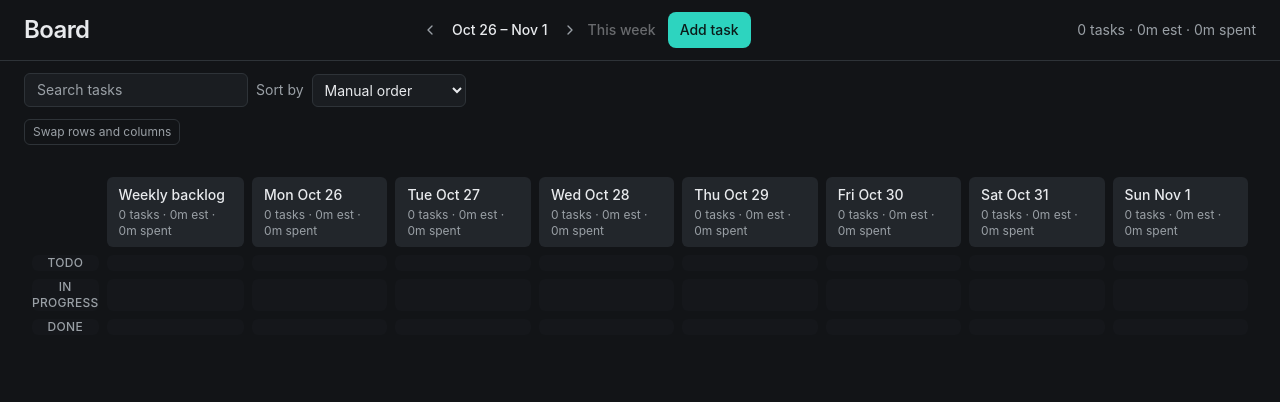
Test case: BoardPage › jumps straight back to the current week via This week
This screenshot has width=1280, height=402.
expect the column heading "Weekly backlog 0 tasks · 0m est · 0m spent" is shown: met, box [107,177,244,247]
expect the button "This week" is disabled: met, box [588,16,656,44]
Click the button named "Previous week": {"x": 430, "y": 30} [416,16,444,44]
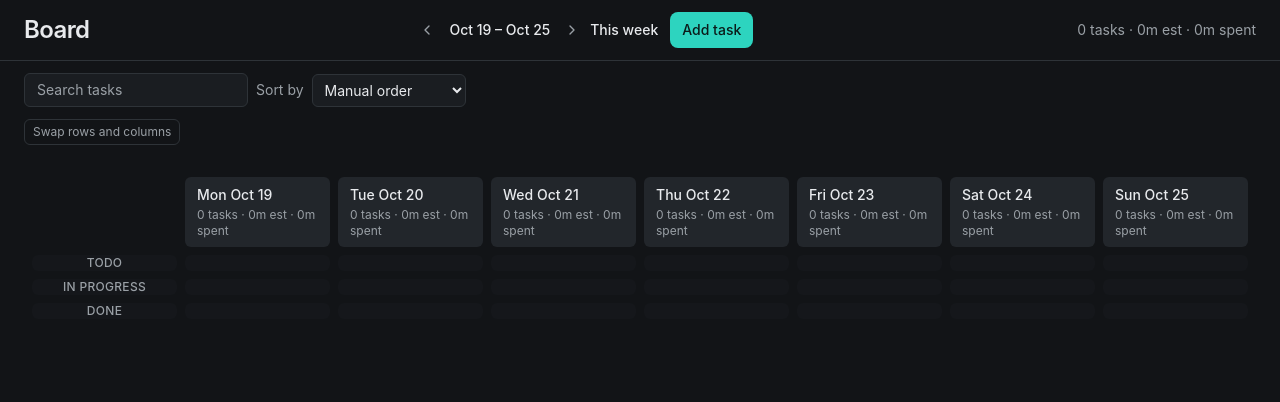
Click the button named "Previous week": {"x": 427, "y": 30} [413,16,441,44]
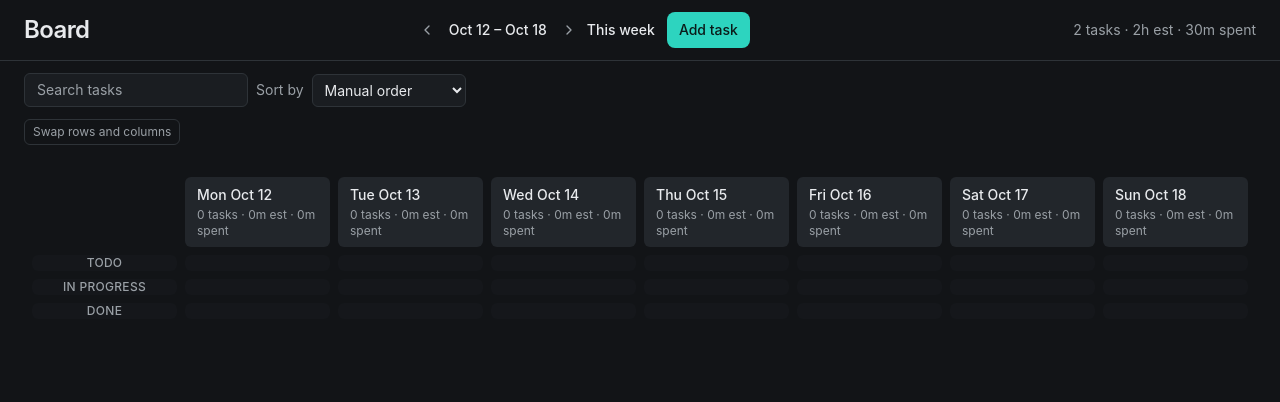
expect the text "Weekly backlog" is not shown: met
expect the button "This week" is enabled: met
Click the button "This week": {"x": 621, "y": 30} [587,16,655,44]
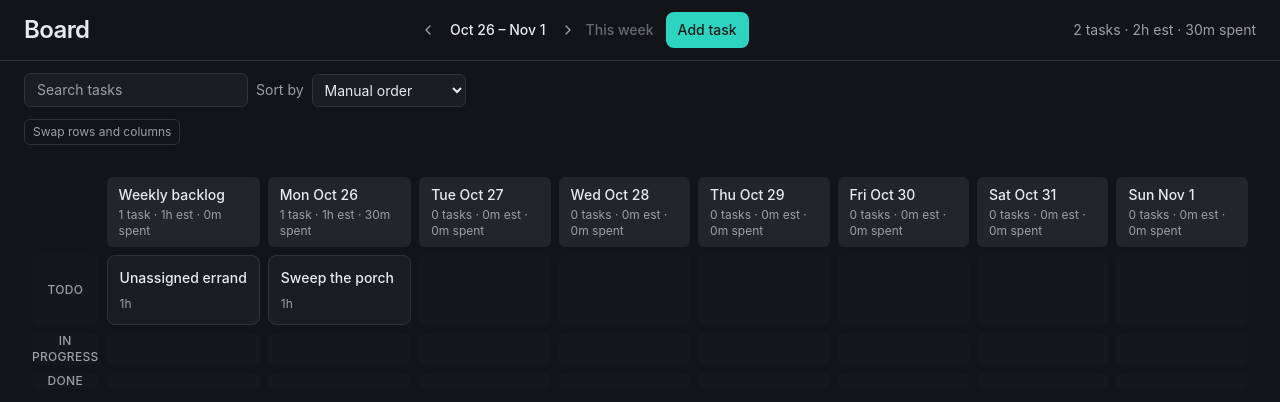
expect the column heading "Weekly backlog 1 task · 1h est · 0m spent" is shown: met, box [107,177,260,247]
expect the button "This week" is disabled: met, box [586,16,654,44]
